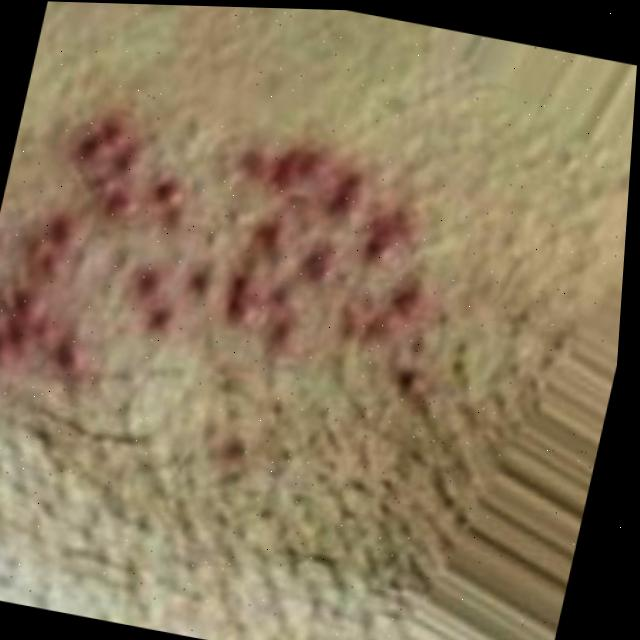Shingles: (0, 96, 473, 448)
